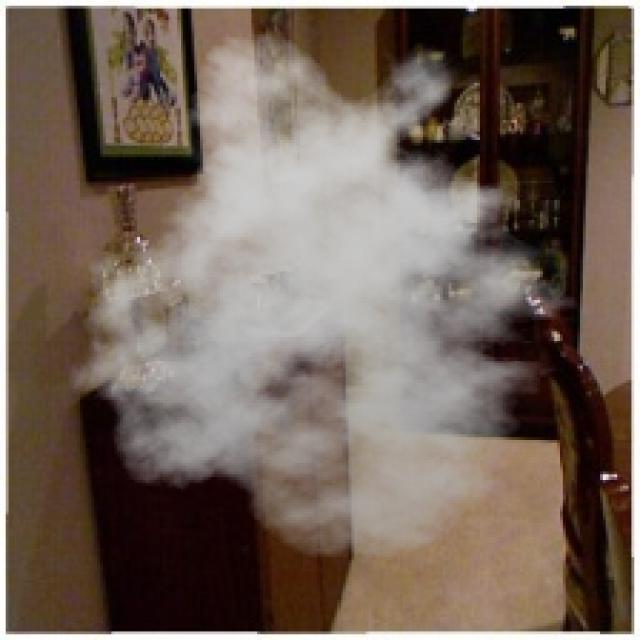Smoke: (54, 28, 600, 560)
